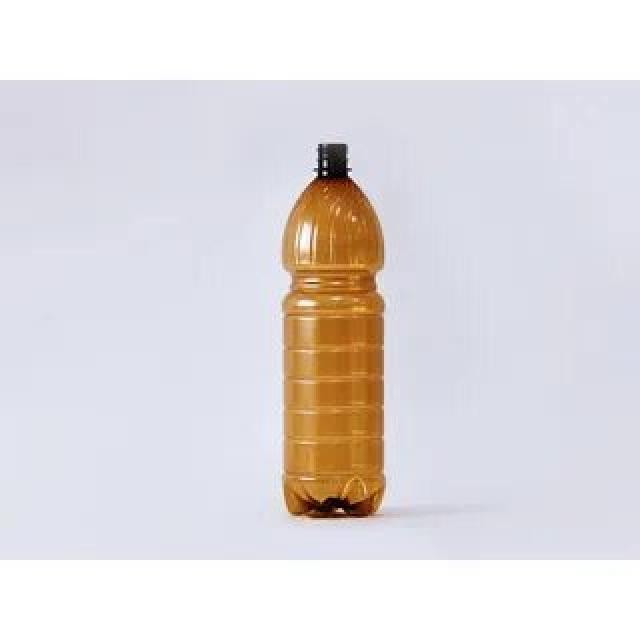brown: (280, 140, 386, 518)
